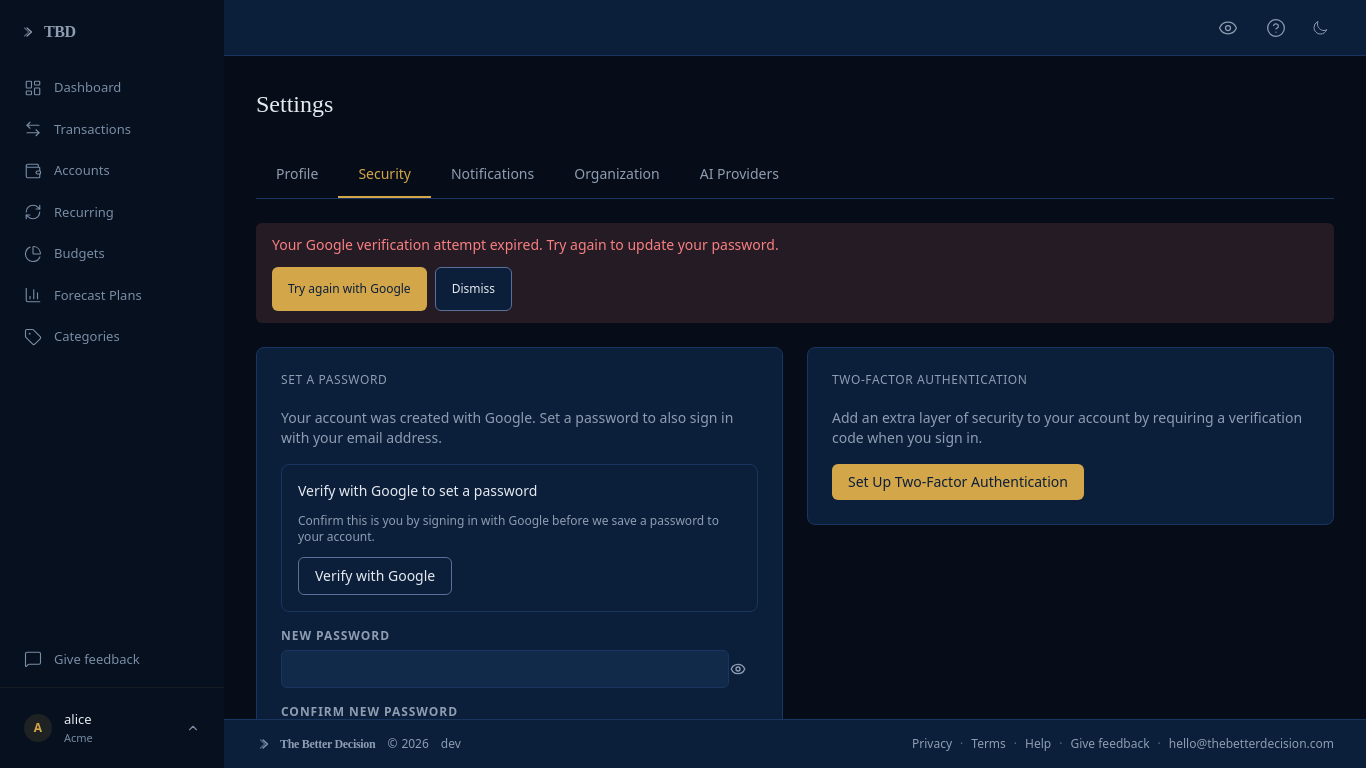
it: Settings/Security page — SSO step-up error banner (Finding 1) › dismiss strips ?sso_stepup_error= from the URL
Click the button "Dismiss": x=473, y=289 [435,267,512,311]
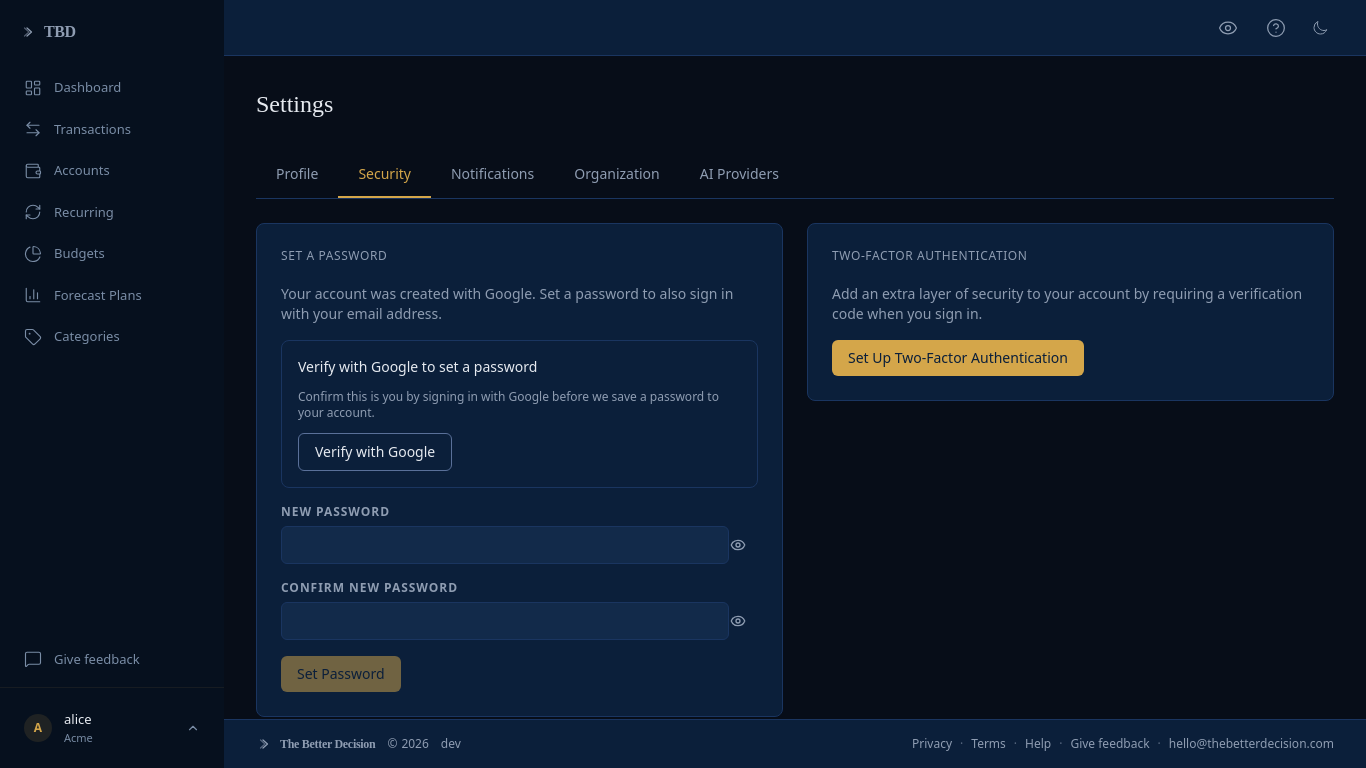
Now the message with test id "sso-stepup-error-banner" is gone
